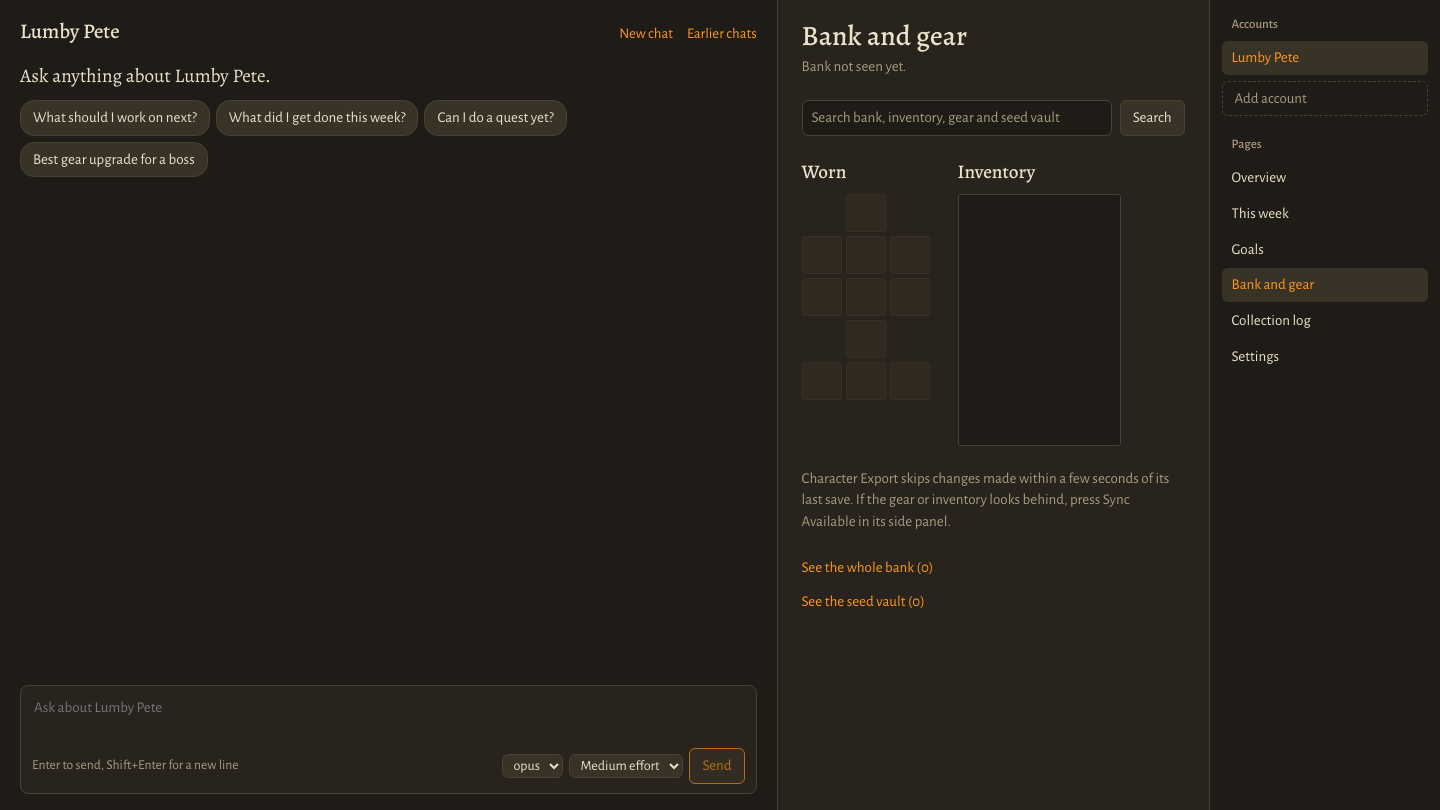
Test case: BankGear › says when a search matched more items than it lists
Type "rune" into the search field. click: (957, 118)
box: [802,100,1112,136]
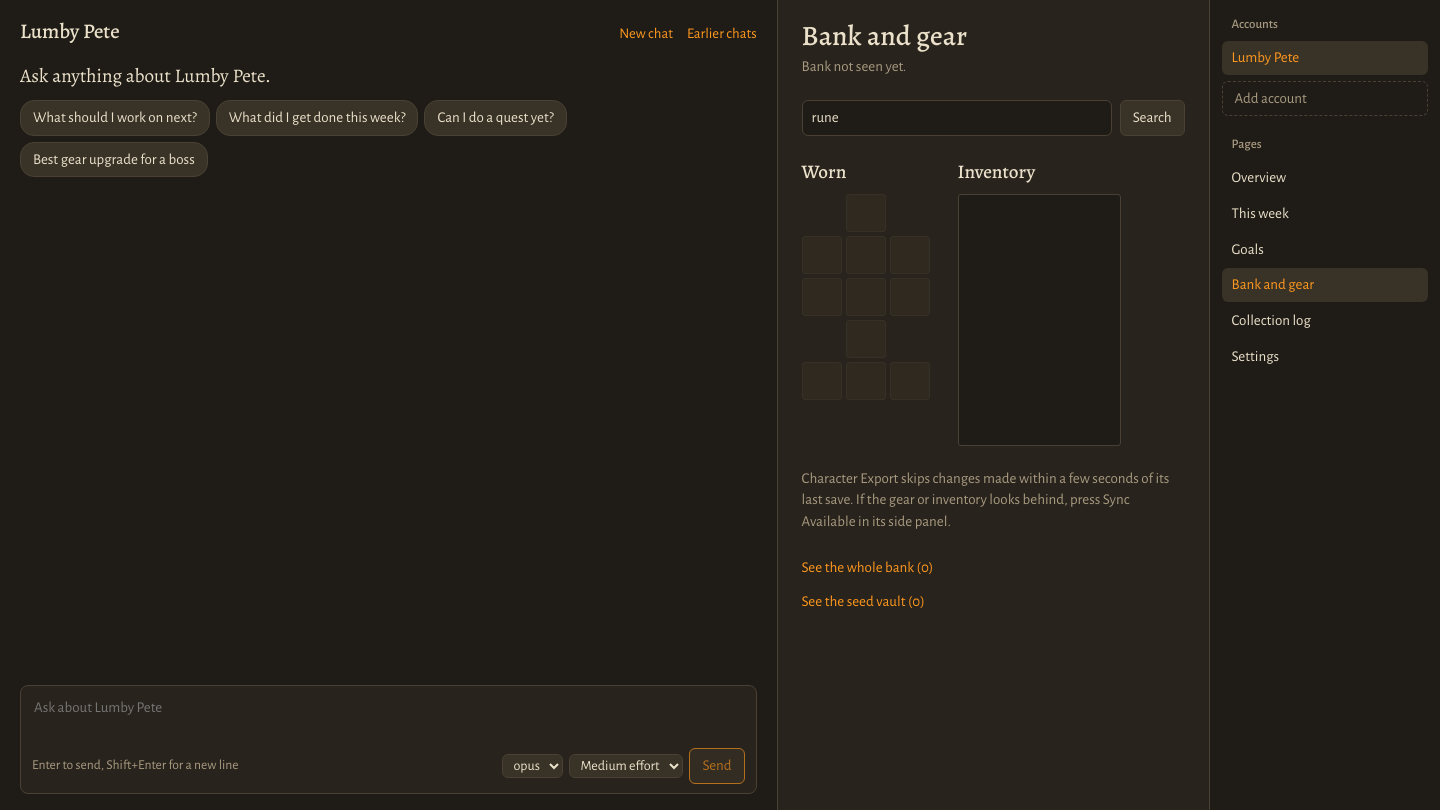
Submit the form from the search field, box [802,100,1112,136]
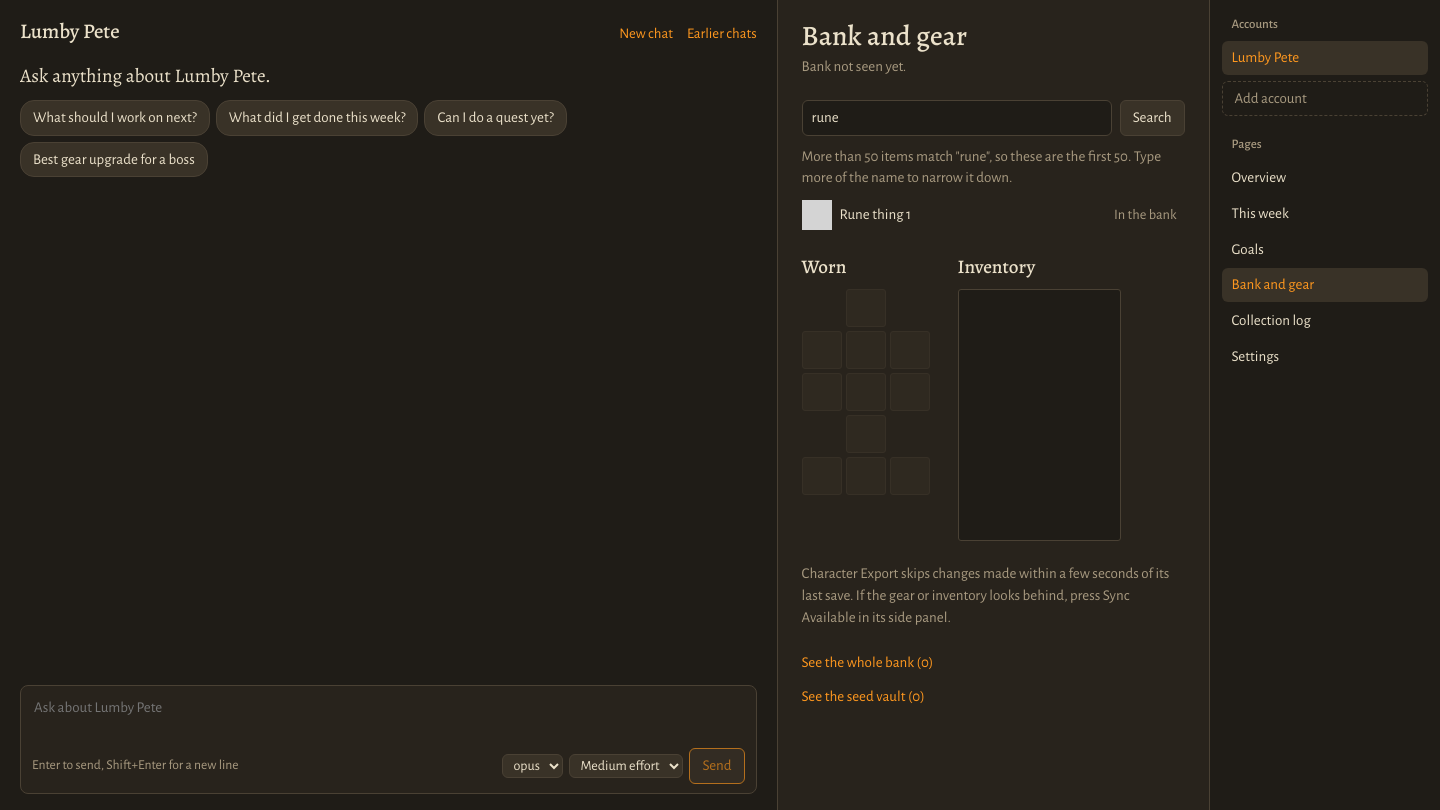
expect the message shows "More than 50 items match \"rune\", so these are the first 50. Type more of the name to narrow it down.": met, box [802,149,1161,186]
